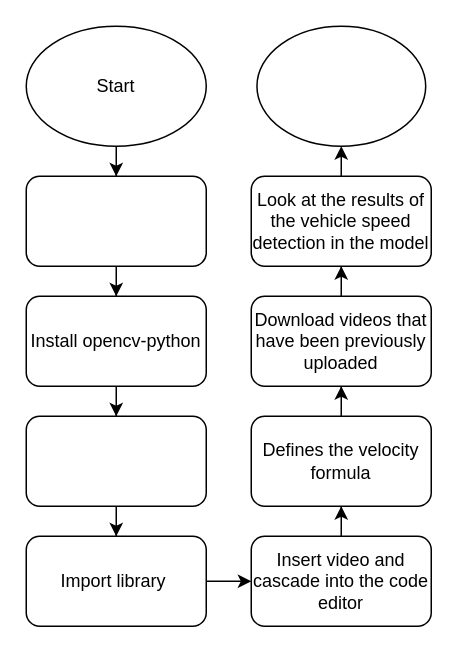
Some shapes in this 458 by 653 pixel diagram are drawn without their labels. The shapes that lost their labels are listed below. From the top down, each one's centre as x and y in pixels, then its label:
At (340,85): "End".
At (115,220): "Speed Detection".
At (115,460): "Install Ubuntu package (libgtk2.0-dev)".
